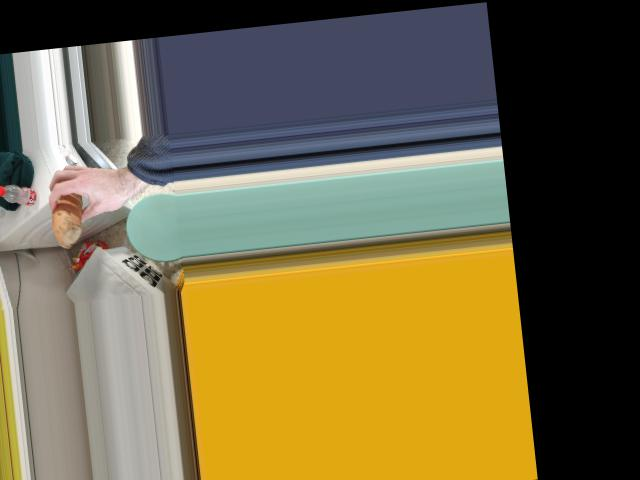sweet_potato: (53, 177, 100, 232)
